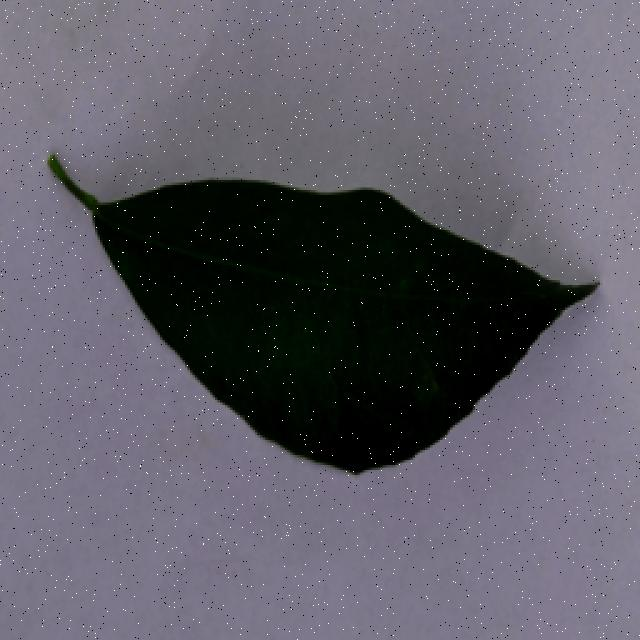healthy: (45, 129, 608, 488)
